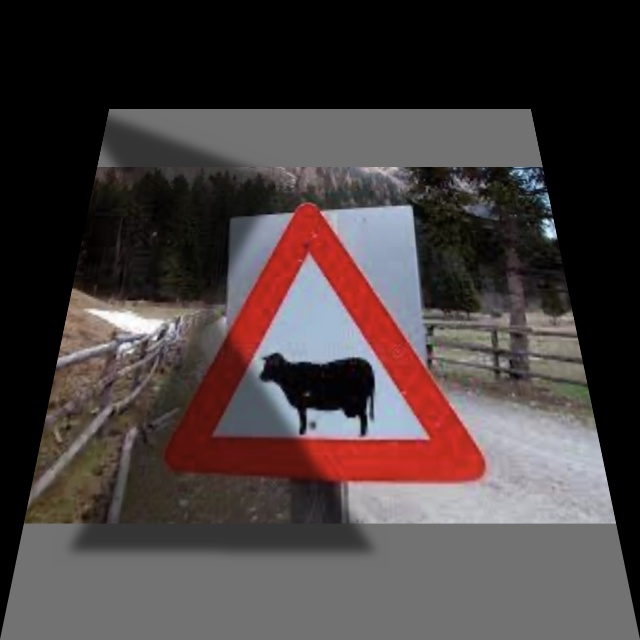Cattle: (165, 213, 476, 485)
